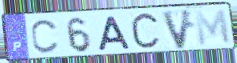6: (65, 16, 93, 54)
A: (97, 15, 132, 53)
C: (129, 10, 162, 53), (29, 18, 60, 56)
M: (194, 8, 233, 48)
V: (160, 8, 195, 52)
